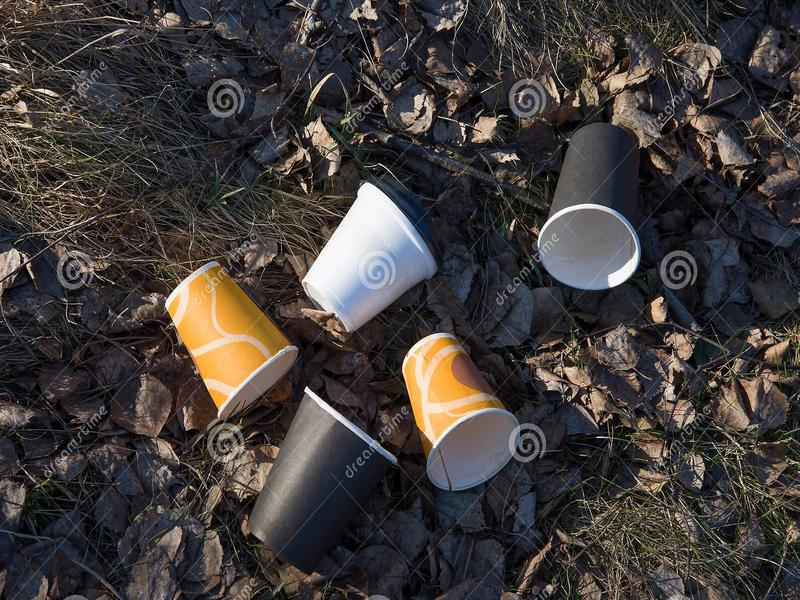cup: (240, 386, 401, 576), (286, 175, 442, 338), (154, 257, 303, 424), (397, 328, 534, 496), (527, 119, 650, 292)
